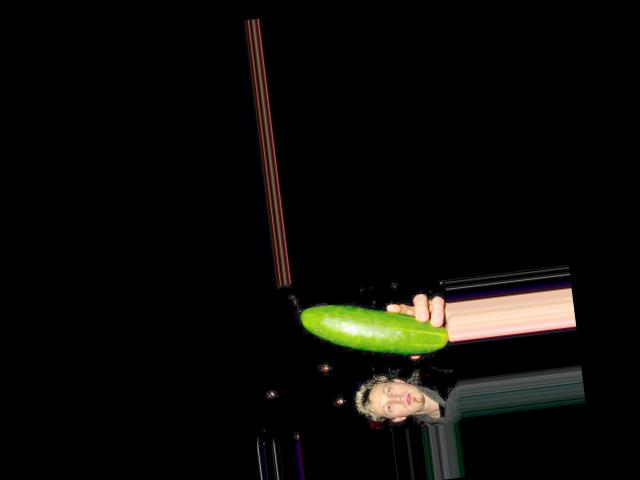cucumber: (300, 290, 448, 366)
